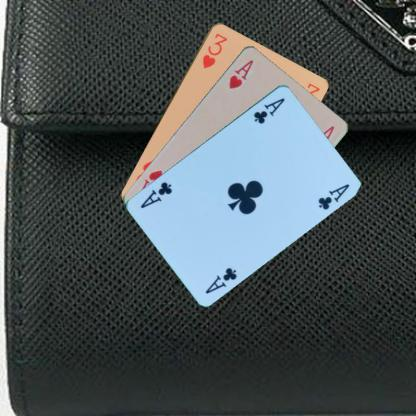3h: (199, 30, 229, 69)
Ac: (202, 264, 239, 295), (251, 95, 286, 125)
Ah: (226, 57, 255, 90)
